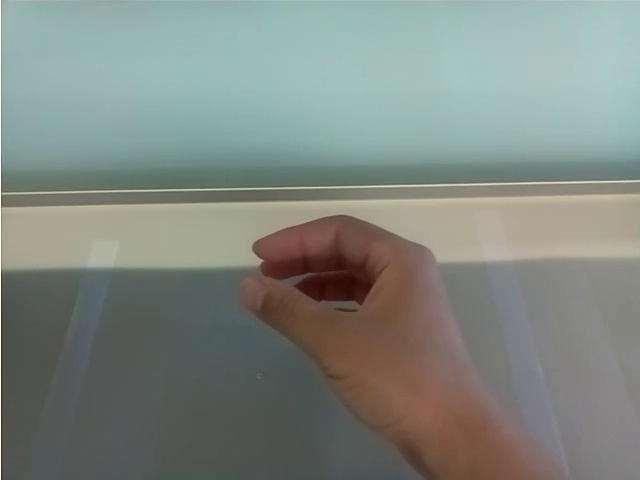hand: (236, 214, 486, 444)
